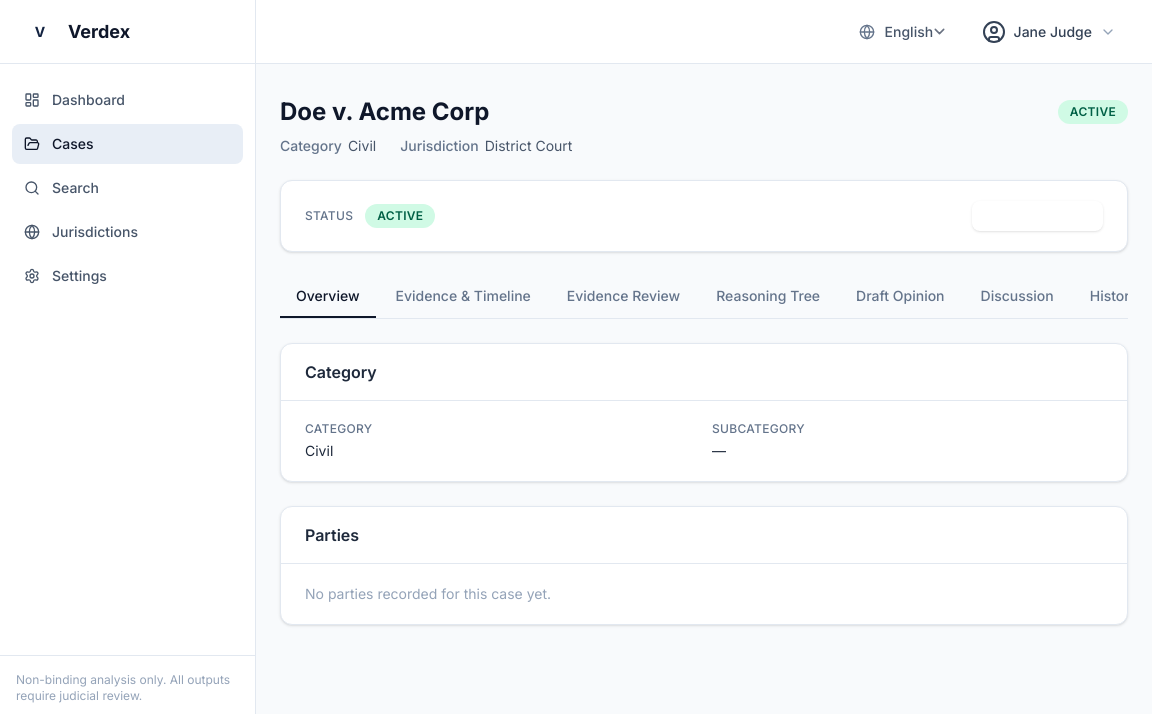
CaseWorkspacePage › renders the Draft Opinion tab with the disclaimer prominent and the empty state, pending a real opinion endpoint
This screenshot has width=1164, height=714.
Click the tab "Draft Opinion" at (900, 297), box [840,276,961,318]
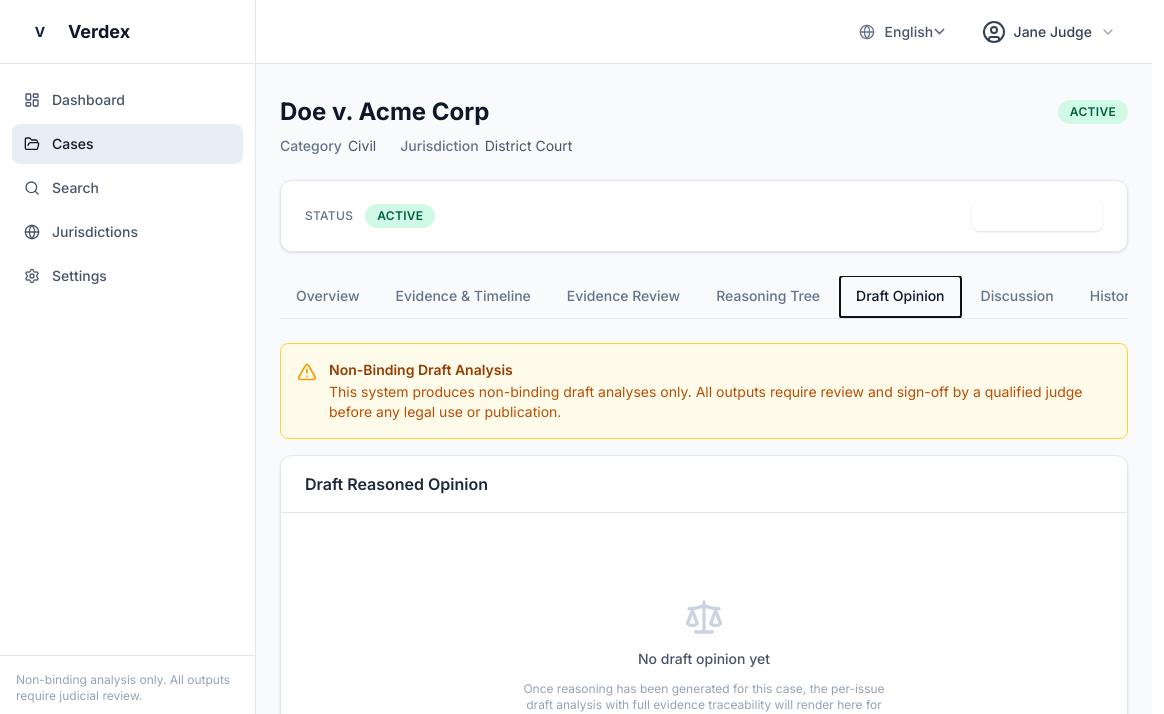
Now the element named "non-binding disclaimer" is shown, box [280,343,1128,439]
Now the text "No draft opinion yet" is shown, box [638,649,770,669]
